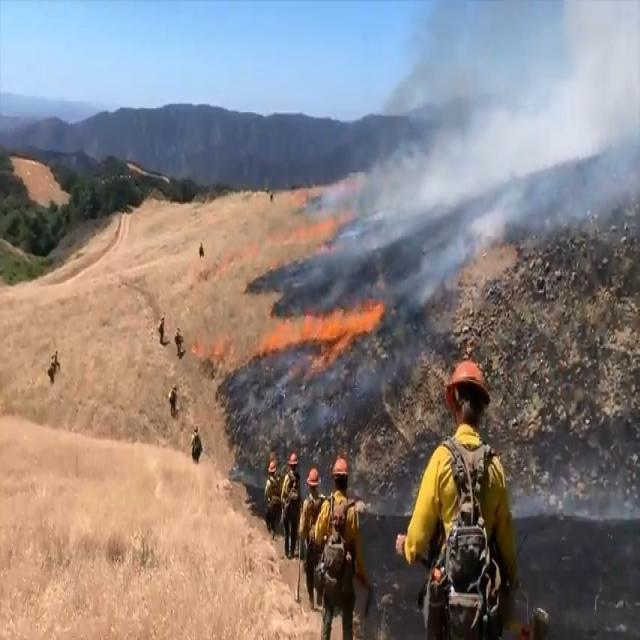Fire: (250, 304, 390, 374)
